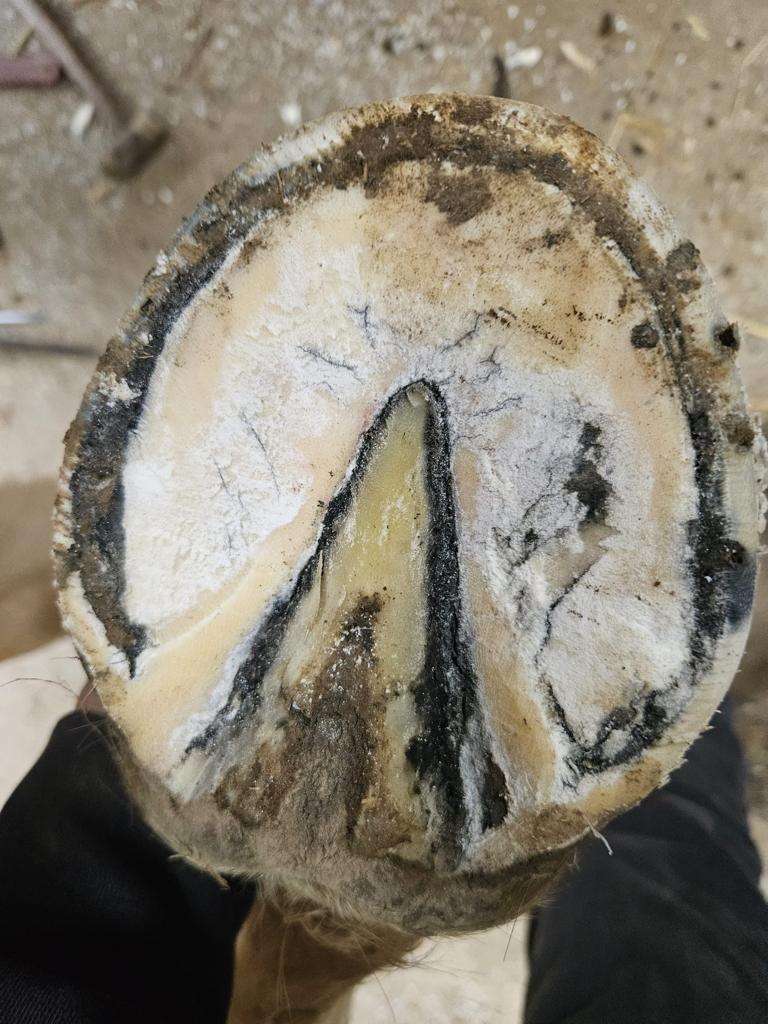horsesole: (48, 91, 767, 870)
